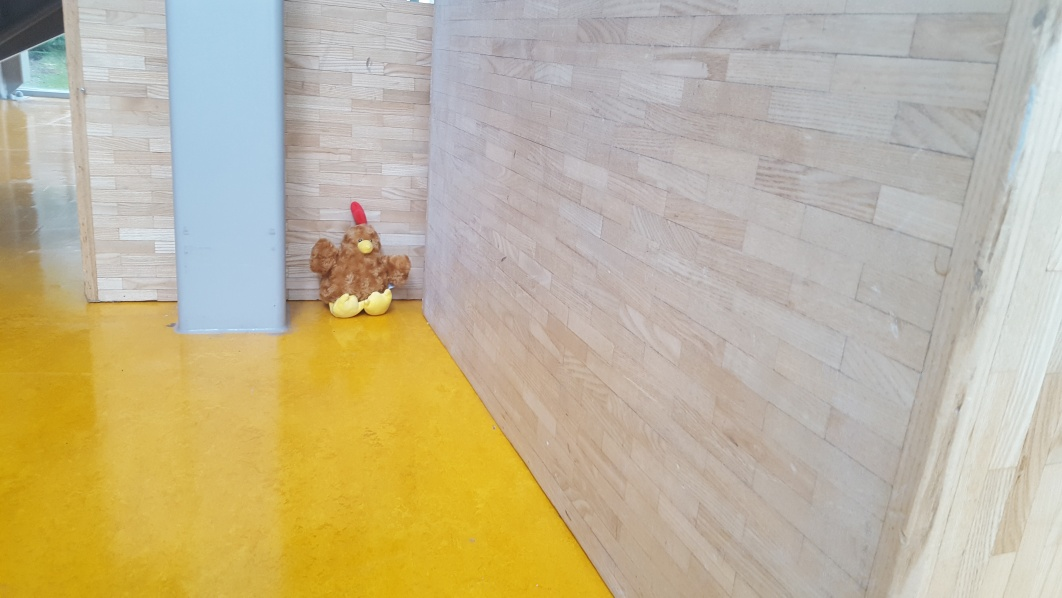chicken: (309, 202, 413, 317)
